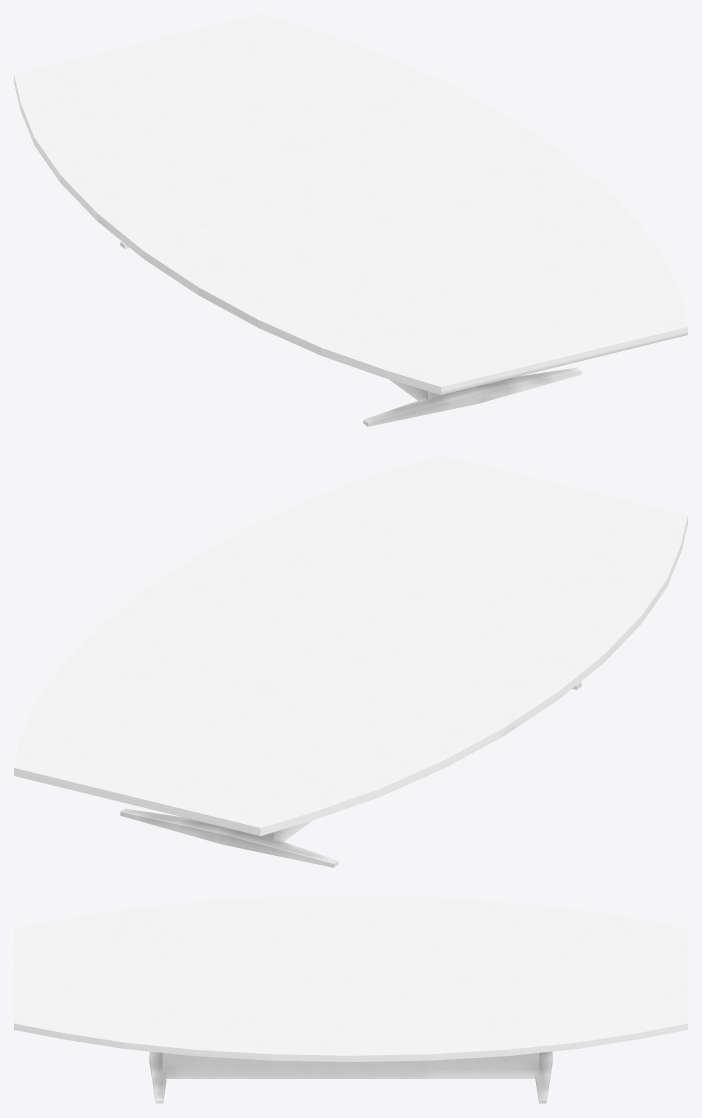
The model's file is MeetingTable.glb.
The picture shows the model from 3 angles, top to bottom: view 1: azimuth 30°, elevation 25°; view 2: azimuth 150°, elevation 25°; view 3: azimuth 270°, elevation 25°; orthographic projection. The views are drawn at different scales.
Visible parts, largest first — view 1: MeetingTable; view 2: MeetingTable; view 3: MeetingTable.
Part boxes in pixels (x1=…): MeetingTable: x1=14, y1=14, x2=687, y2=426; MeetingTable: x1=14, y1=455, x2=687, y2=867; MeetingTable: x1=14, y1=896, x2=687, y2=1103.
Size of the model in its own units: 3.36 by 0.8503 by 6.
1 material, 1 textured.
